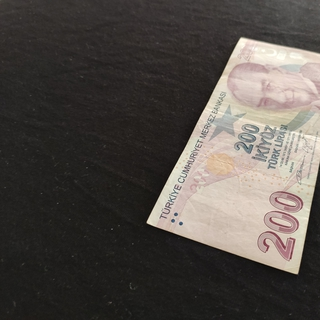200TLFront: (145, 36, 320, 276)
